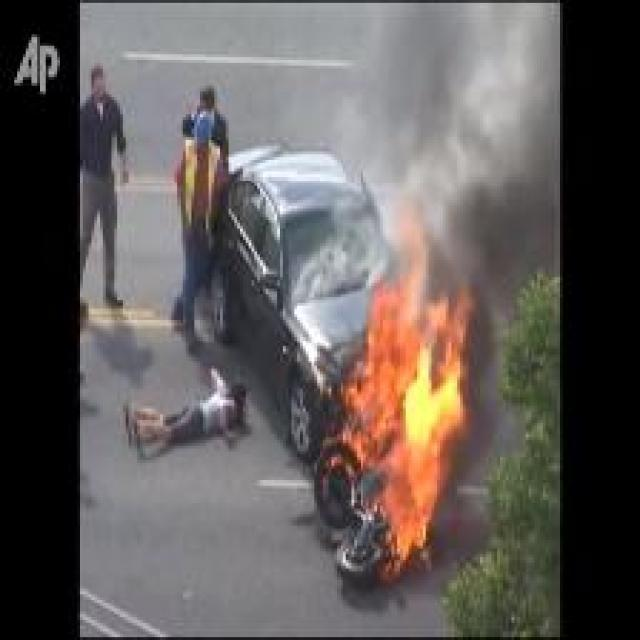Fire: (336, 194, 468, 566)
